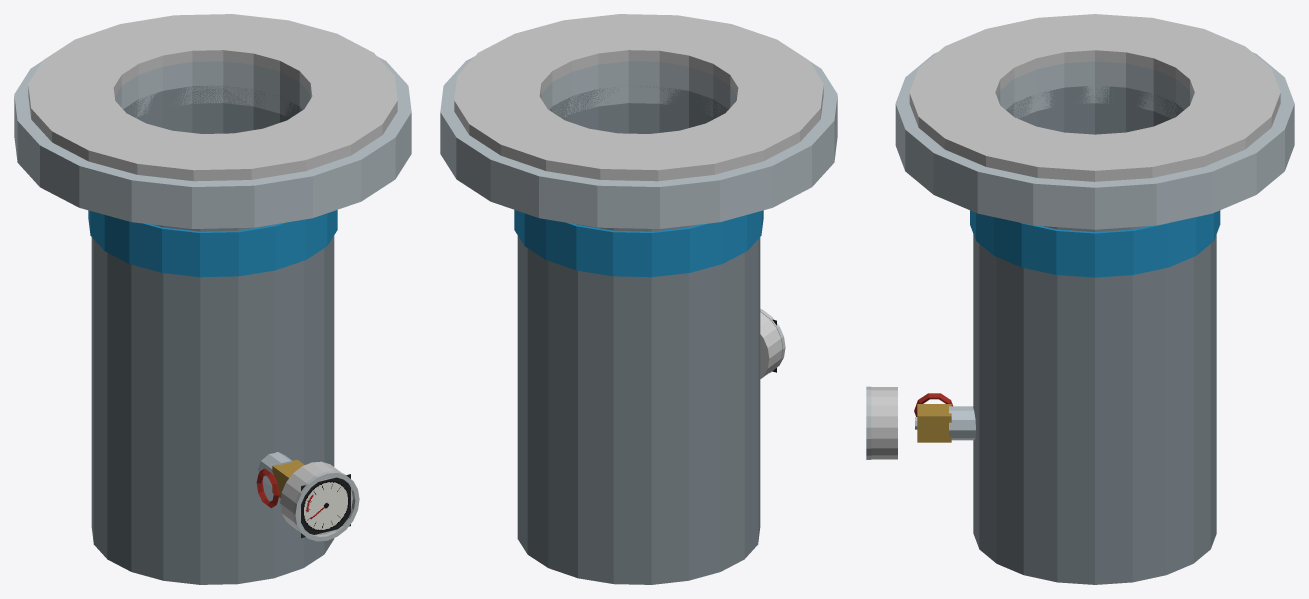
Rendered from cell_50.obj.
The picture shows the model from 3 angles, left to right: view 1: azimuth 30°, elevation 25°; view 2: azimuth 150°, elevation 25°; view 3: azimuth 270°, elevation 25°; orthographic projection.
Size of the model in its own units: 0.82 by 1 by 0.88.
